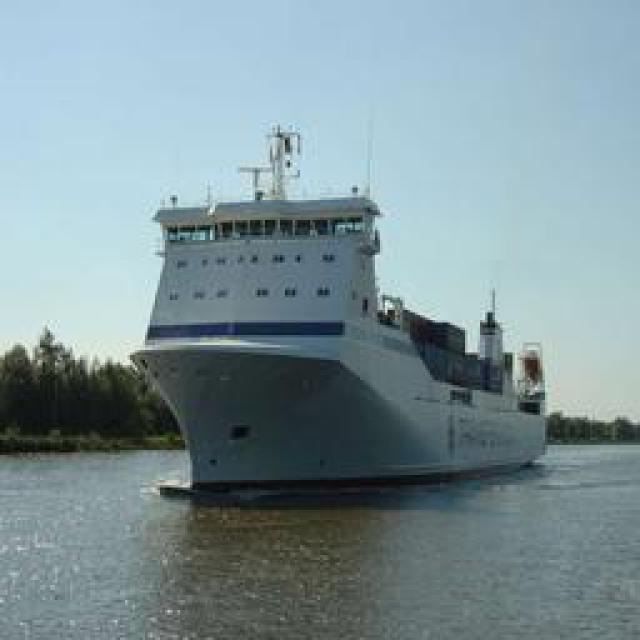Ship: (139, 151, 552, 494)
